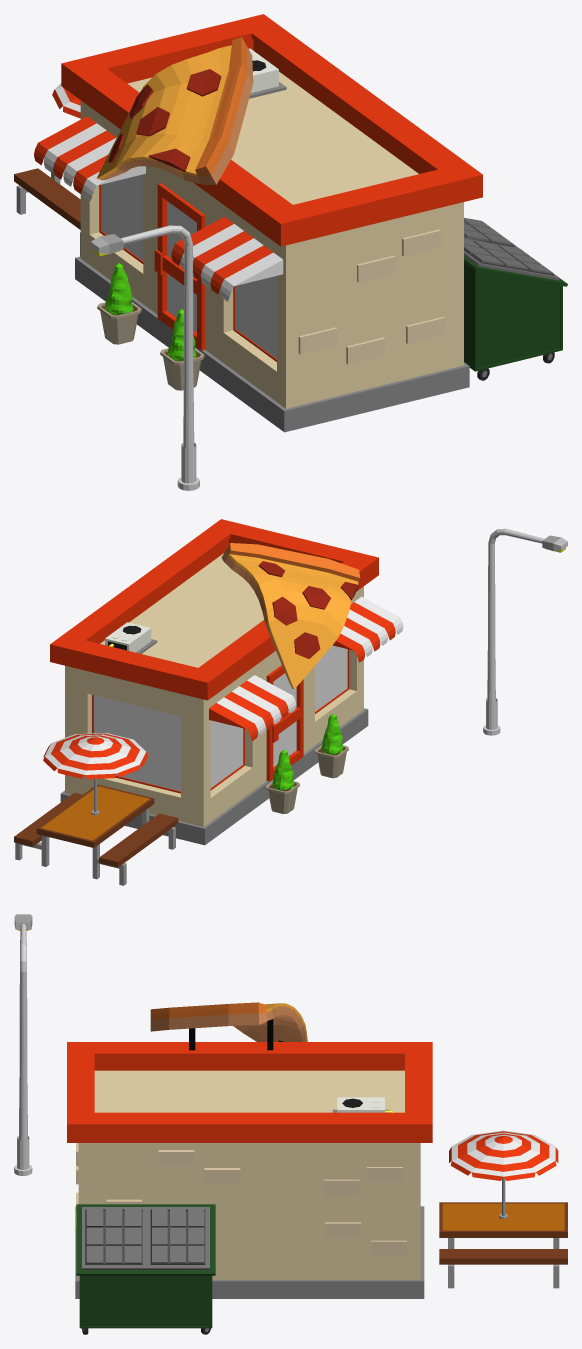
File: PizzaHome.glb
3 views of the same model, one above another, from view 1: azimuth 30°, elevation 25°; view 2: azimuth 150°, elevation 25°; view 3: azimuth 270°, elevation 25° (orthographic). The views are drawn at different scales.
Parts seen in each view (by area): view 1: Home, Roof, Pizza, Dumpster.007, Tende.004, Door, Tende.003, Pole.002, PicnicTable.001, Cube.001, Cassetta.001, Cone (+2 smaller); view 2: Home, Roof, PicnicTable.001, Pizza, Tende.003, Tende.004, Pole.002, Door, Cassetta.001, Cube.001, Cube.002, Cone (+1 smaller); view 3: Home, Roof, Dumpster.007, PicnicTable.001, Pizza, Pole.002, Cassetta.001.
Boxes of the visible parts, bbox=[...] form: Home: bbox=[75, 100, 469, 432]; Roof: bbox=[61, 14, 482, 246]; Pizza: bbox=[96, 37, 253, 184]; Dumpster.007: bbox=[464, 217, 567, 380]; Tende.004: bbox=[171, 216, 283, 301]; Door: bbox=[157, 183, 205, 350]; Tende.003: bbox=[34, 116, 145, 200]; Pole.002: bbox=[90, 225, 199, 490]; PicnicTable.001: bbox=[14, 83, 80, 256]; Cube.001: bbox=[97, 302, 141, 344]; Cassetta.001: bbox=[249, 48, 286, 98]; Cone: bbox=[105, 263, 133, 314]; Home: bbox=[60, 586, 368, 845]; Roof: bbox=[50, 519, 378, 700]; PicnicTable.001: bbox=[14, 733, 178, 885]; Pizza: bbox=[221, 543, 359, 688]; Tende.003: bbox=[209, 675, 296, 741]; Tende.004: bbox=[332, 596, 403, 662]; Pole.002: bbox=[483, 528, 567, 735]; Door: bbox=[266, 665, 303, 781]; Cassetta.001: bbox=[105, 622, 157, 653]; Cube.001: bbox=[265, 780, 299, 813]; Cube.002: bbox=[314, 745, 348, 778]; Cone: bbox=[272, 749, 294, 790]; Home: bbox=[75, 1143, 424, 1298]; Roof: bbox=[67, 1042, 432, 1142]; Dumpster.007: bbox=[76, 1204, 215, 1334]; PicnicTable.001: bbox=[439, 1130, 567, 1288]; Pizza: bbox=[150, 1002, 307, 1041]; Pole.002: bbox=[14, 914, 32, 1175]; Cassetta.001: bbox=[332, 1097, 393, 1112].
Size of the model in its own units: 11.69 by 6.63 by 13.35.
Materials: 2 (1 with a texture image).
